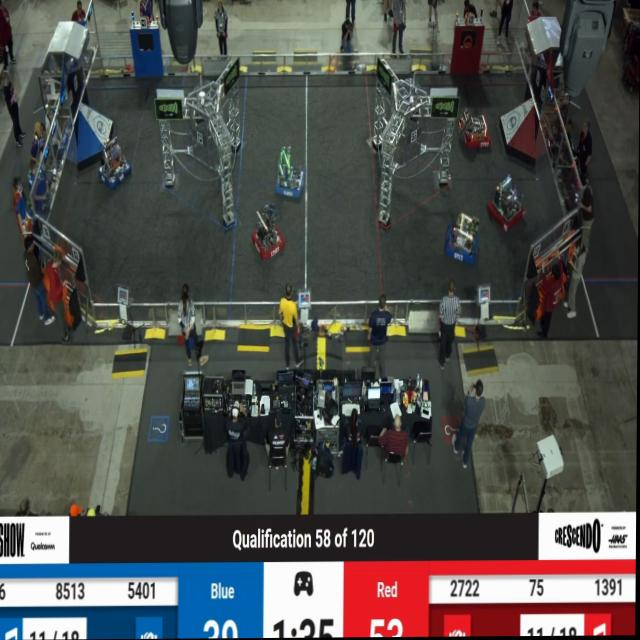Robot: (486, 175, 526, 236), (97, 131, 131, 195), (252, 202, 286, 264), (446, 212, 479, 270), (275, 146, 305, 202), (460, 108, 494, 155)
